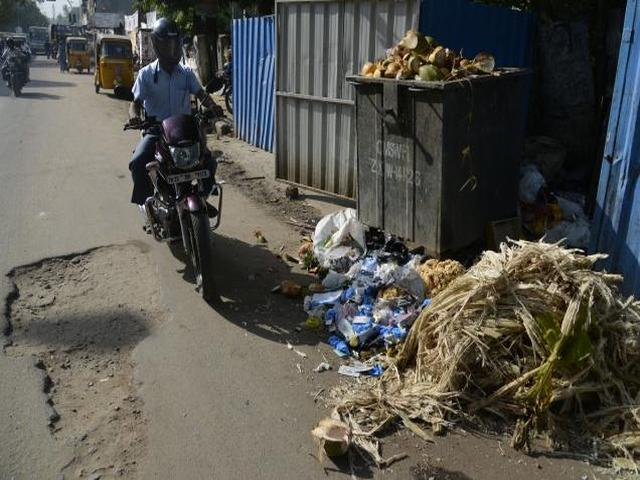garbage: (328, 240, 616, 411), (394, 46, 482, 78)
